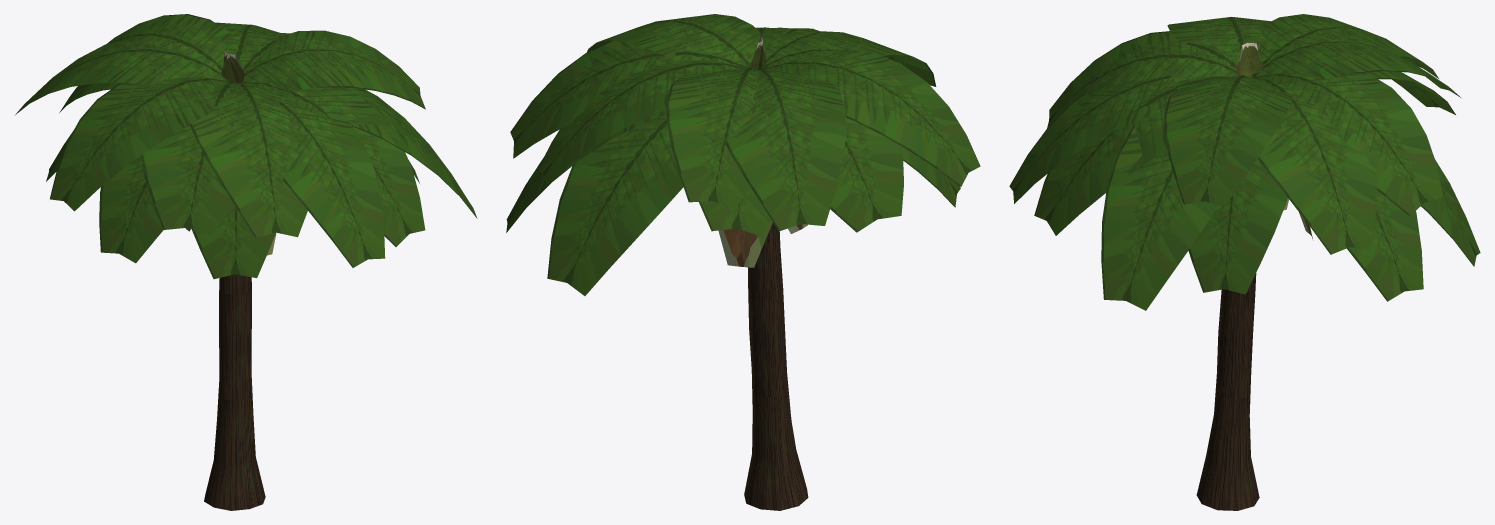
Rendered from ENV_PC_TreeFern_B.fbx.
The picture shows the model from 3 angles, left to right: view 1: azimuth 30°, elevation 25°; view 2: azimuth 150°, elevation 25°; view 3: azimuth 270°, elevation 25°; orthographic projection. The views are drawn at different scales.
Parts seen in each view (by area): view 1: ENV_PC_TreeFern_B_LOD0; view 2: ENV_PC_TreeFern_B_LOD0; view 3: ENV_PC_TreeFern_B_LOD0.
Part boxes in pixels (x1,y1,x2,y2): ENV_PC_TreeFern_B_LOD0: (15, 14, 477, 510); ENV_PC_TreeFern_B_LOD0: (506, 14, 980, 510); ENV_PC_TreeFern_B_LOD0: (1009, 14, 1480, 510).
Size of what is drawn, in the model's own units: 5.45 by 5.99 by 5.6.
